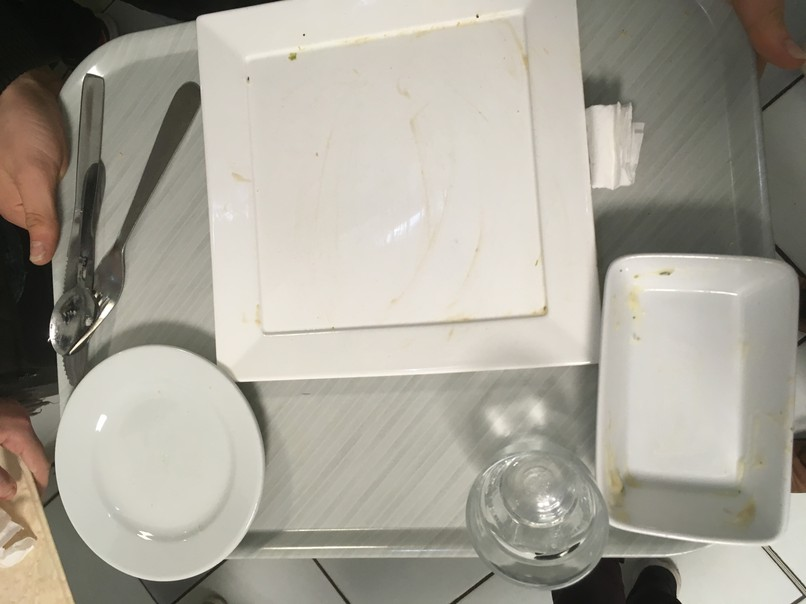cup: (463, 423, 631, 603)
cutlery: (45, 57, 198, 395)
trash: (580, 95, 646, 190)
